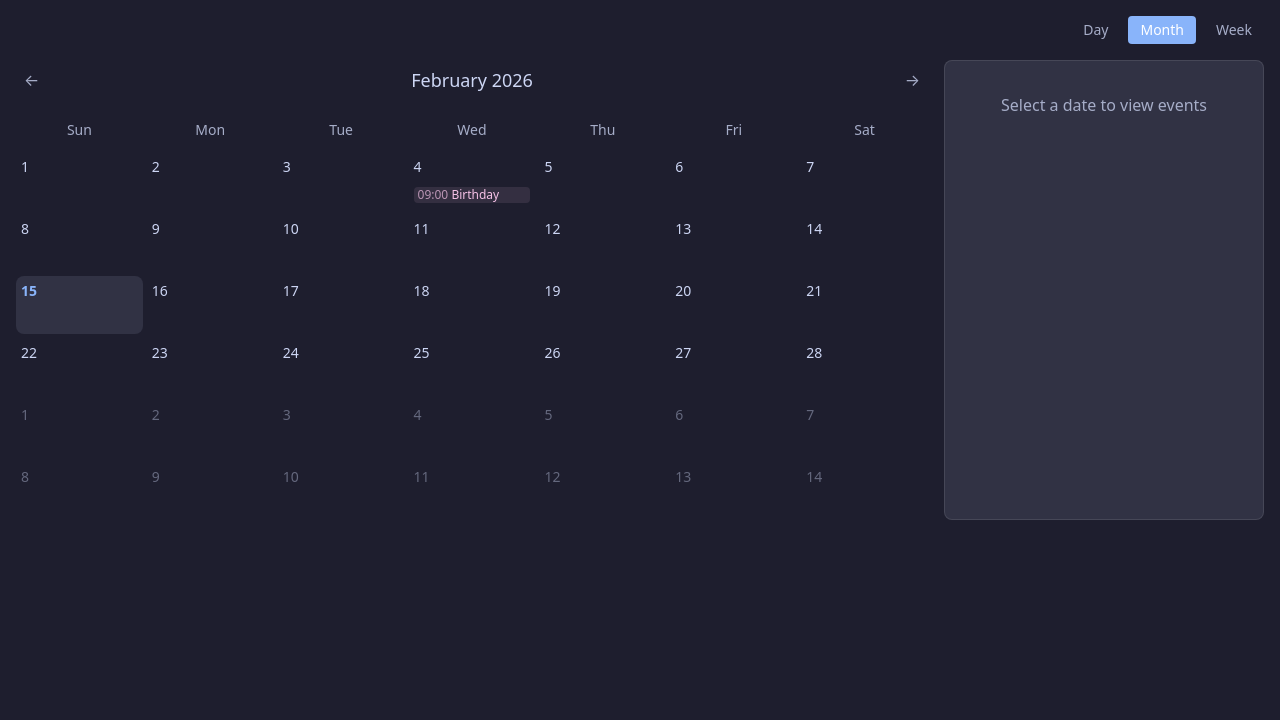
Scenario: editing the repeat rule › counts years, not months, for a yearly rule
Step 1. Click the button "09:00 Birthday" → x=472, y=195, box x1=414 y1=187 x2=530 y2=203
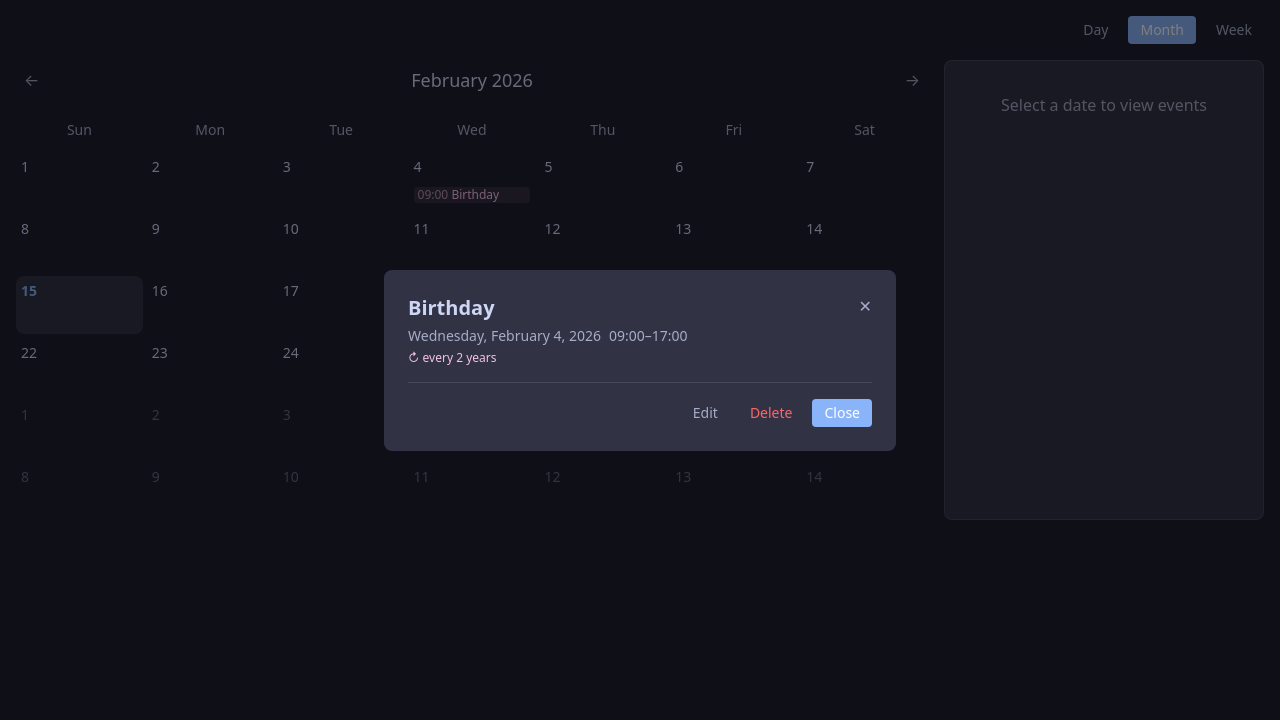
Step 2. Click the button "Edit" → x=705, y=412, box x1=681 y1=398 x2=730 y2=426
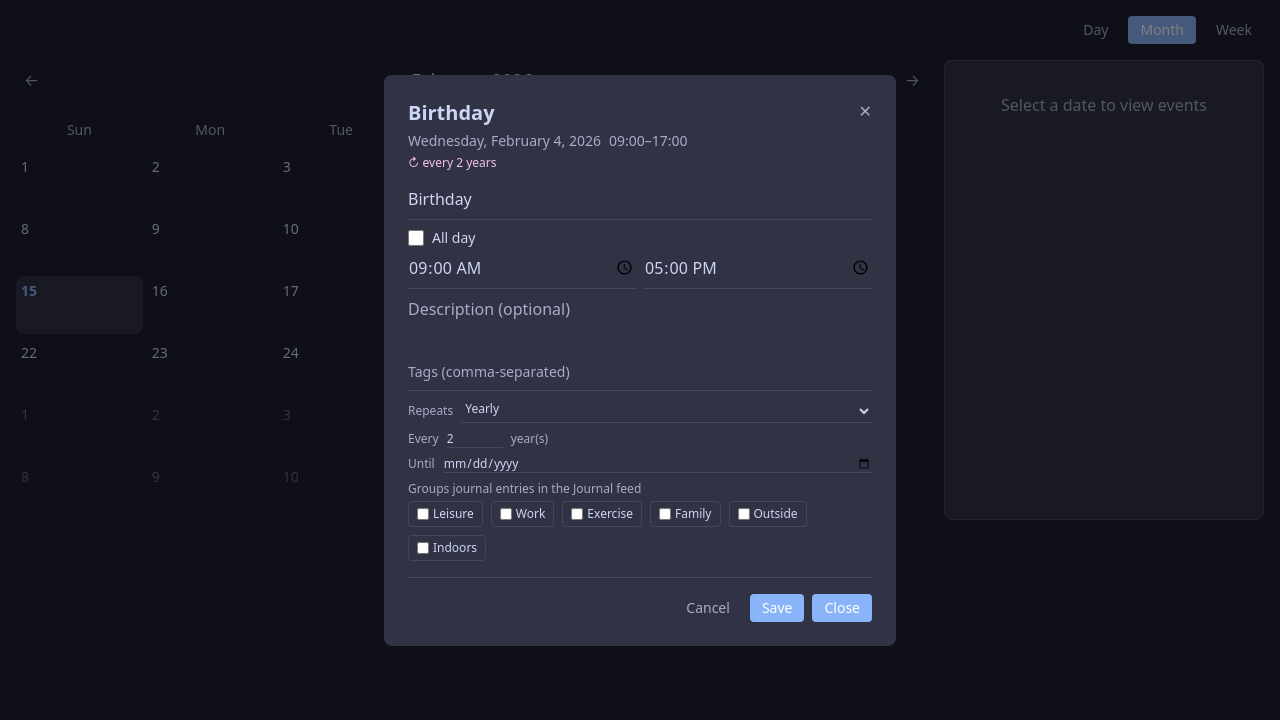
Expected: the label named "Repeat interval" shows "year(s)", x1=511 y1=430 x2=548 y2=447
